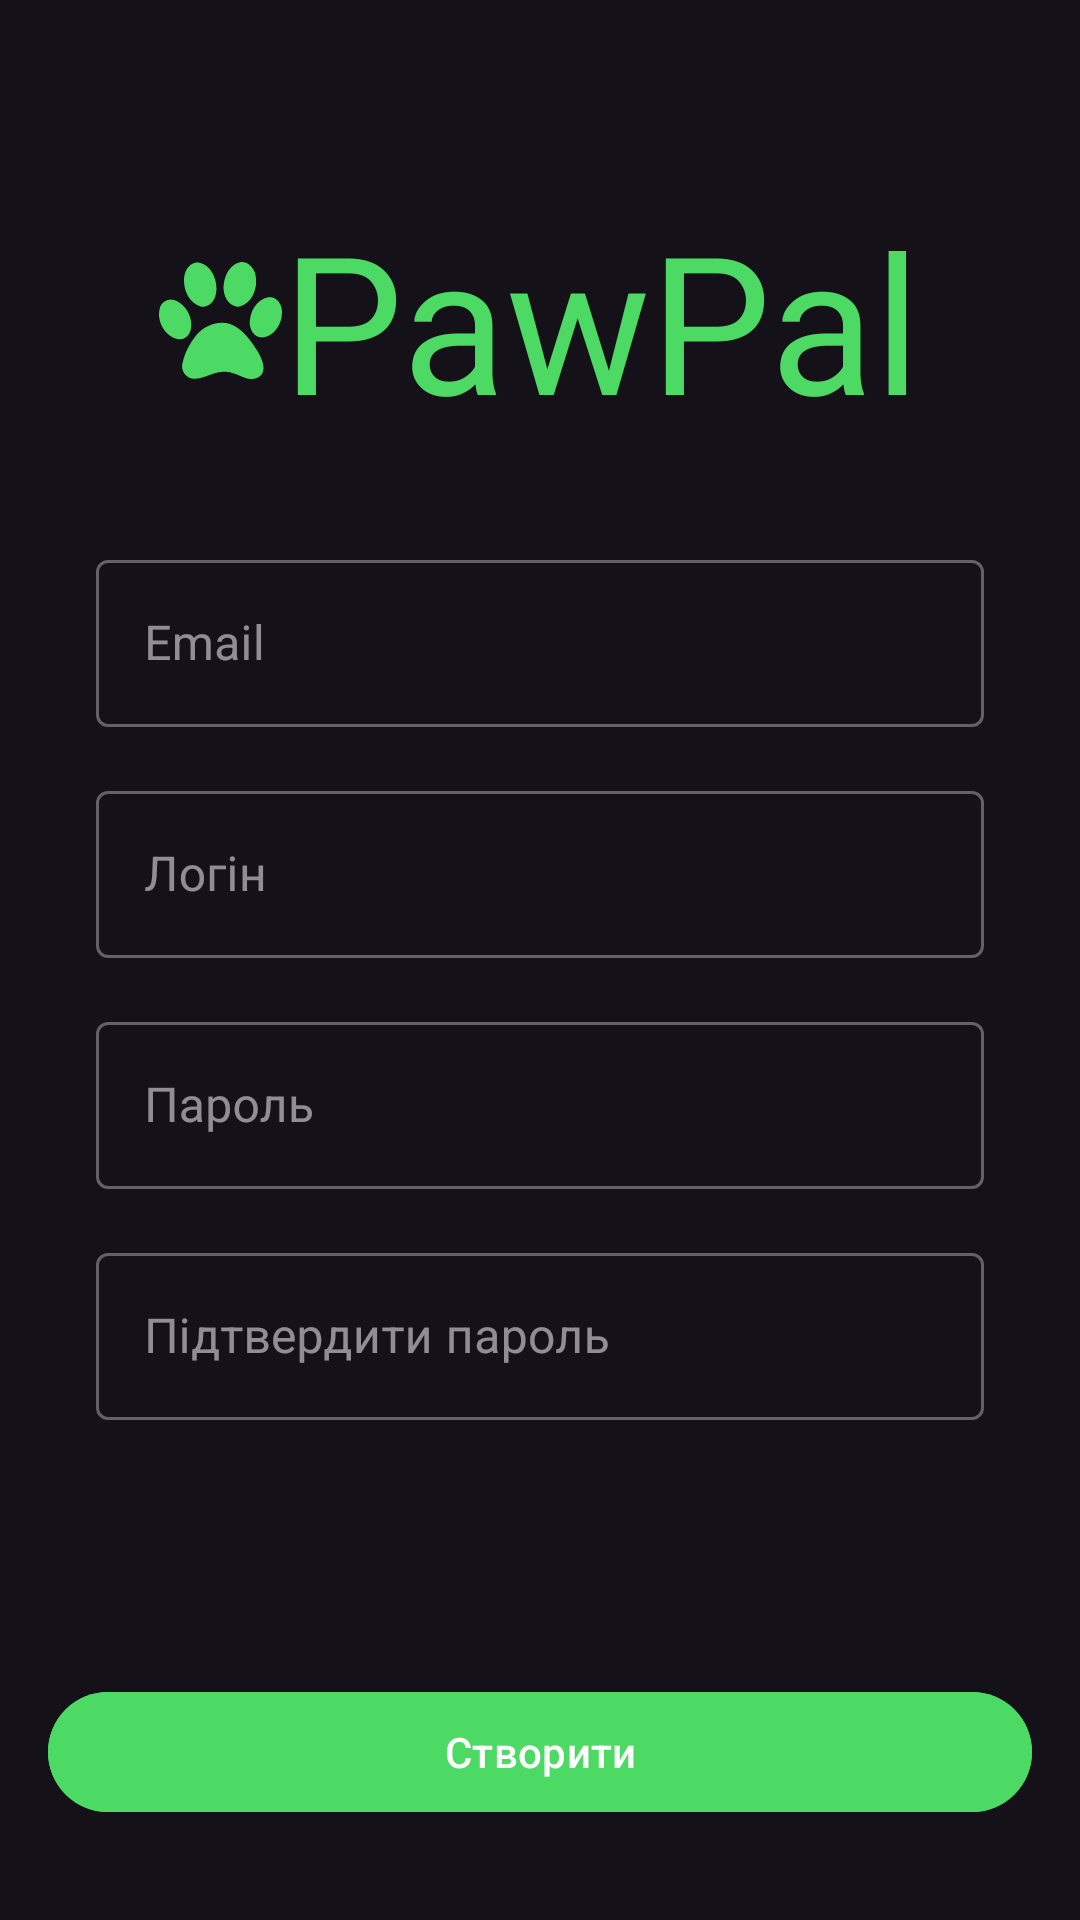

Point at icon controls on the screen. Image size 1080x1920, points as [x,y].
paw print: [220,320]
